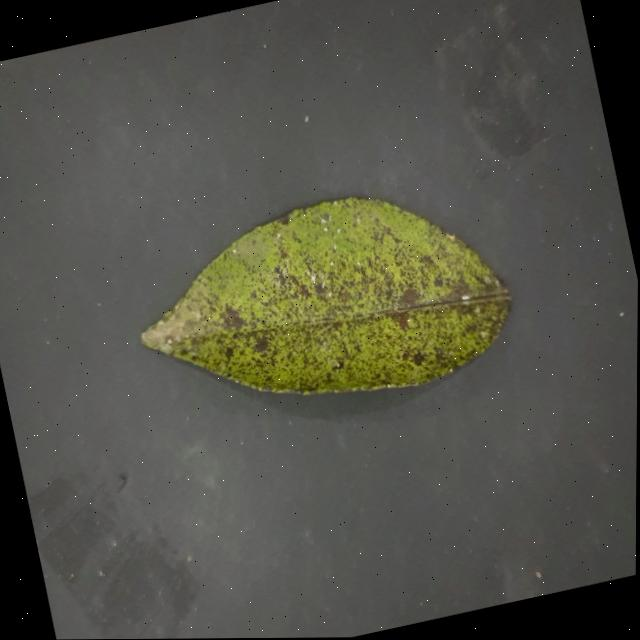greasy_spot: (141, 197, 510, 393)
